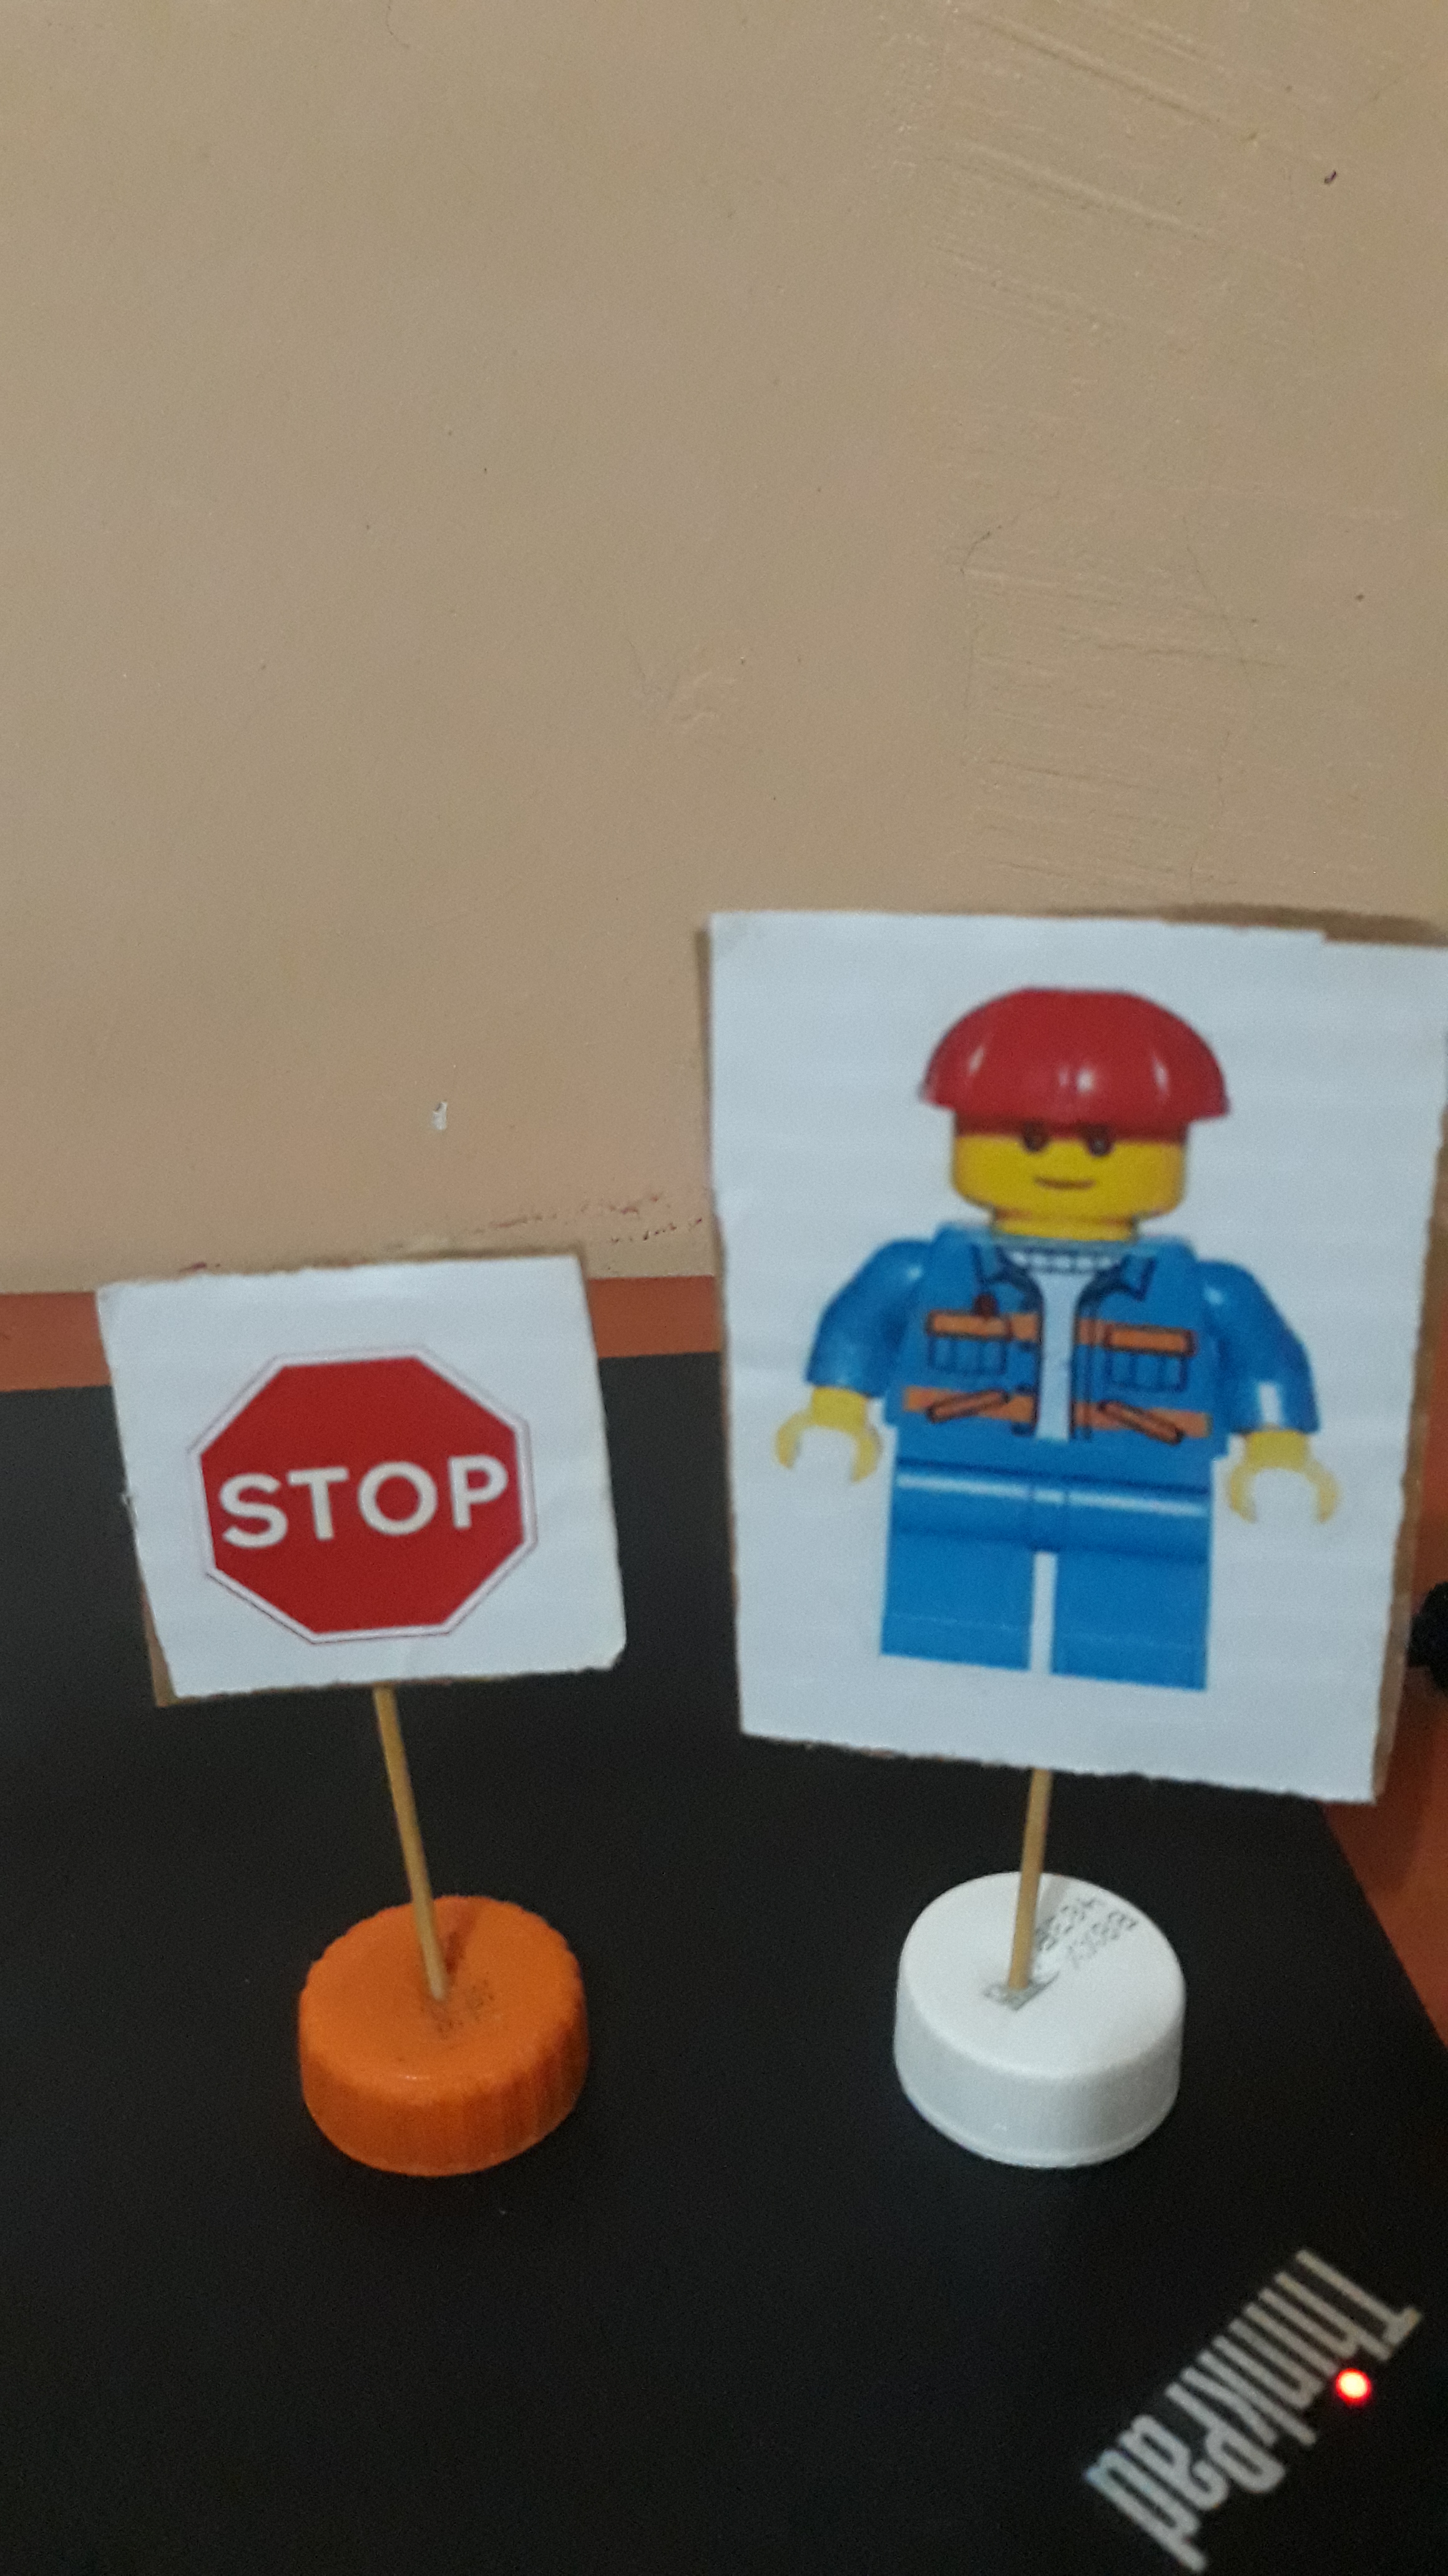pedestrian: (740, 929, 1364, 1768)
stop: (135, 1304, 603, 1659)
